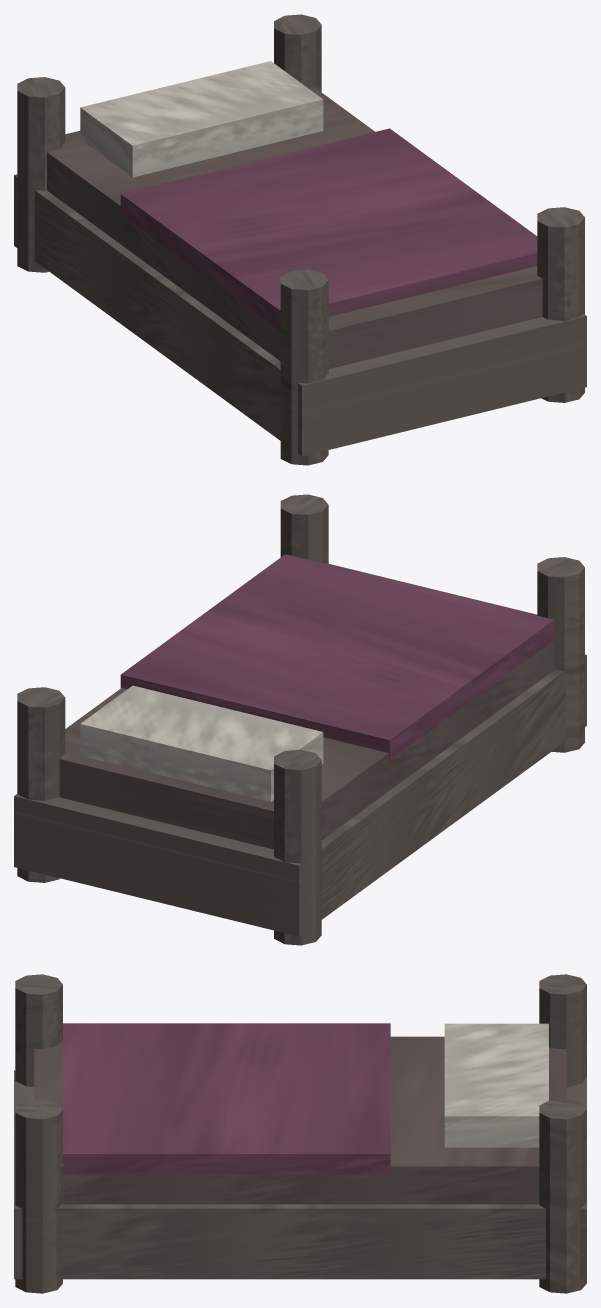
Rendered from adventurer_bed.glb.
3 views of the same model, one above another, from view 1: azimuth 30°, elevation 25°; view 2: azimuth 150°, elevation 25°; view 3: azimuth 270°, elevation 25° (orthographic).
Parts seen in each view (by area): view 1: wood, wine, leather, bone; view 2: wood, wine, leather, bone; view 3: wood, wine, leather, bone.
Part boxes in pixels (left/top/right/bottom): wood: left=14, top=14, right=586, bottom=465; wine: left=120, top=128, right=537, bottom=331; leather: left=47, top=87, right=542, bottom=368; bone: left=80, top=61, right=323, bottom=177; wood: left=14, top=494, right=586, bottom=945; wine: left=120, top=554, right=554, bottom=760; leather: left=59, top=563, right=554, bottom=849; bone: left=80, top=685, right=323, bottom=801; wood: left=14, top=974, right=586, bottom=1293; wine: left=63, top=1023, right=390, bottom=1174; leather: left=34, top=1036, right=566, bottom=1204; bone: left=444, top=1023, right=548, bottom=1147.
Bounding box in the file's own units: 1.68 × 0.94 × 2.8.
Materials: 4 (4 with a texture image).
